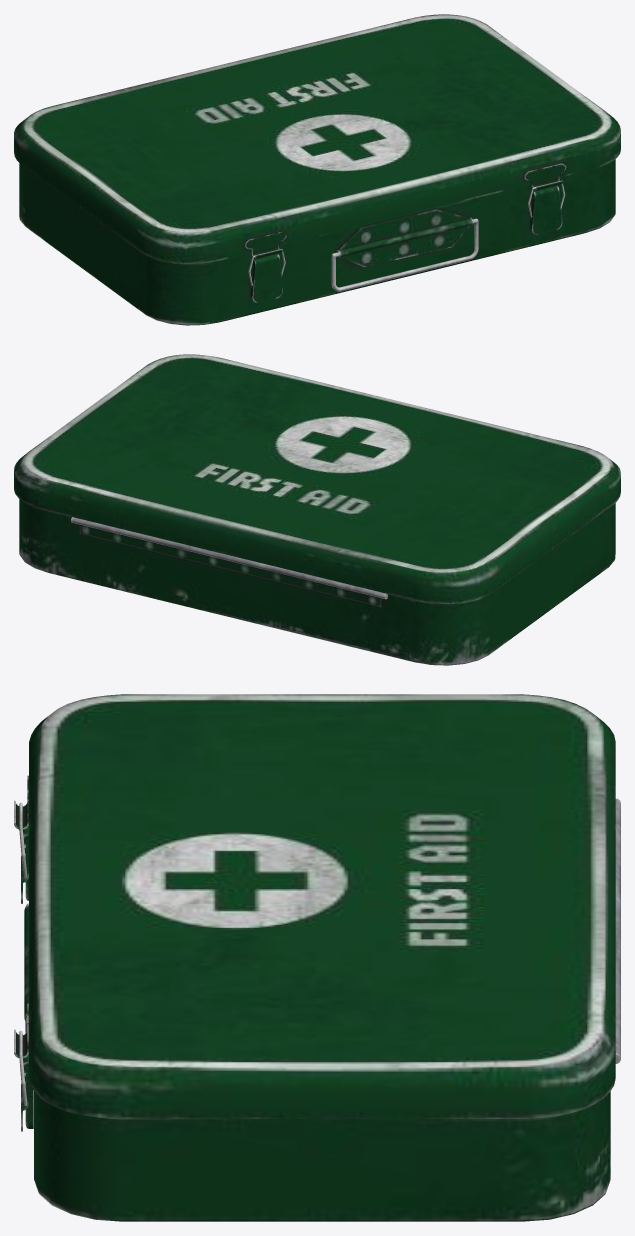
The model's file is medical_box.glb.
3 views of the same model, one above another, from view 1: azimuth 30°, elevation 25°; view 2: azimuth 150°, elevation 25°; view 3: azimuth 270°, elevation 25° (orthographic). The views are drawn at different scales.
Parts seen in each view (by area): view 1: medical_box_lid, medical_box, medical_box_latch, medical_box_handle; view 2: medical_box_lid, medical_box; view 3: medical_box_lid, medical_box.
Part boxes in pixels (x1,y1,x2,y2): medical_box_lid: (14, 14, 620, 263); medical_box: (19, 159, 615, 325); medical_box_latch: (251, 185, 562, 302); medical_box_handle: (331, 218, 478, 291); medical_box_lid: (14, 354, 620, 603); medical_box: (19, 499, 615, 665); medical_box_lid: (14, 694, 615, 1118); medical_box: (24, 798, 620, 1221).
Bounding box in the file's own units: 0.5255 × 0.0975 × 0.3502.
1 material, 1 textured.
